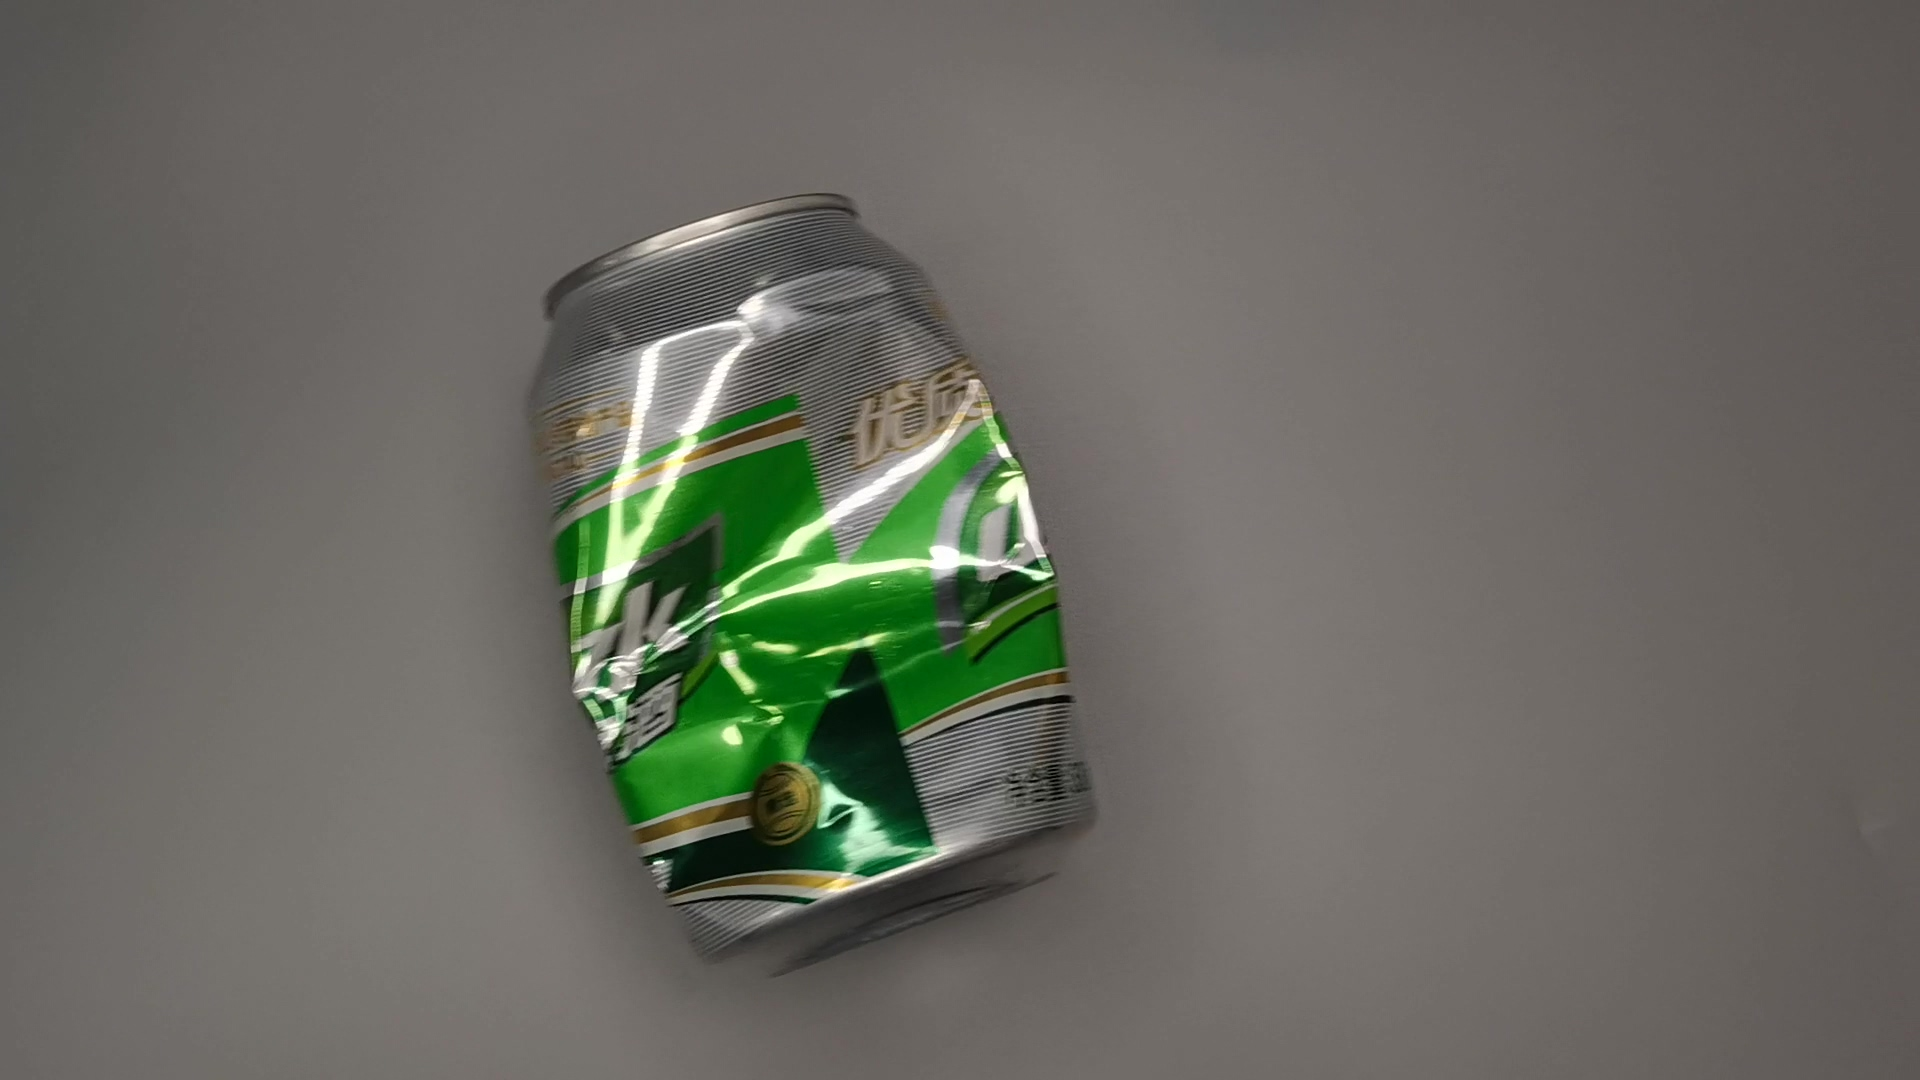can: (520, 179, 1108, 989)
